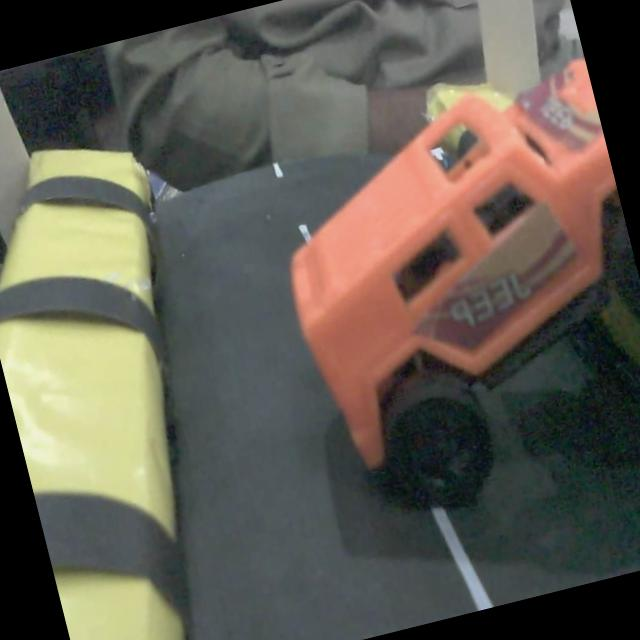Accident: (291, 61, 622, 507)
